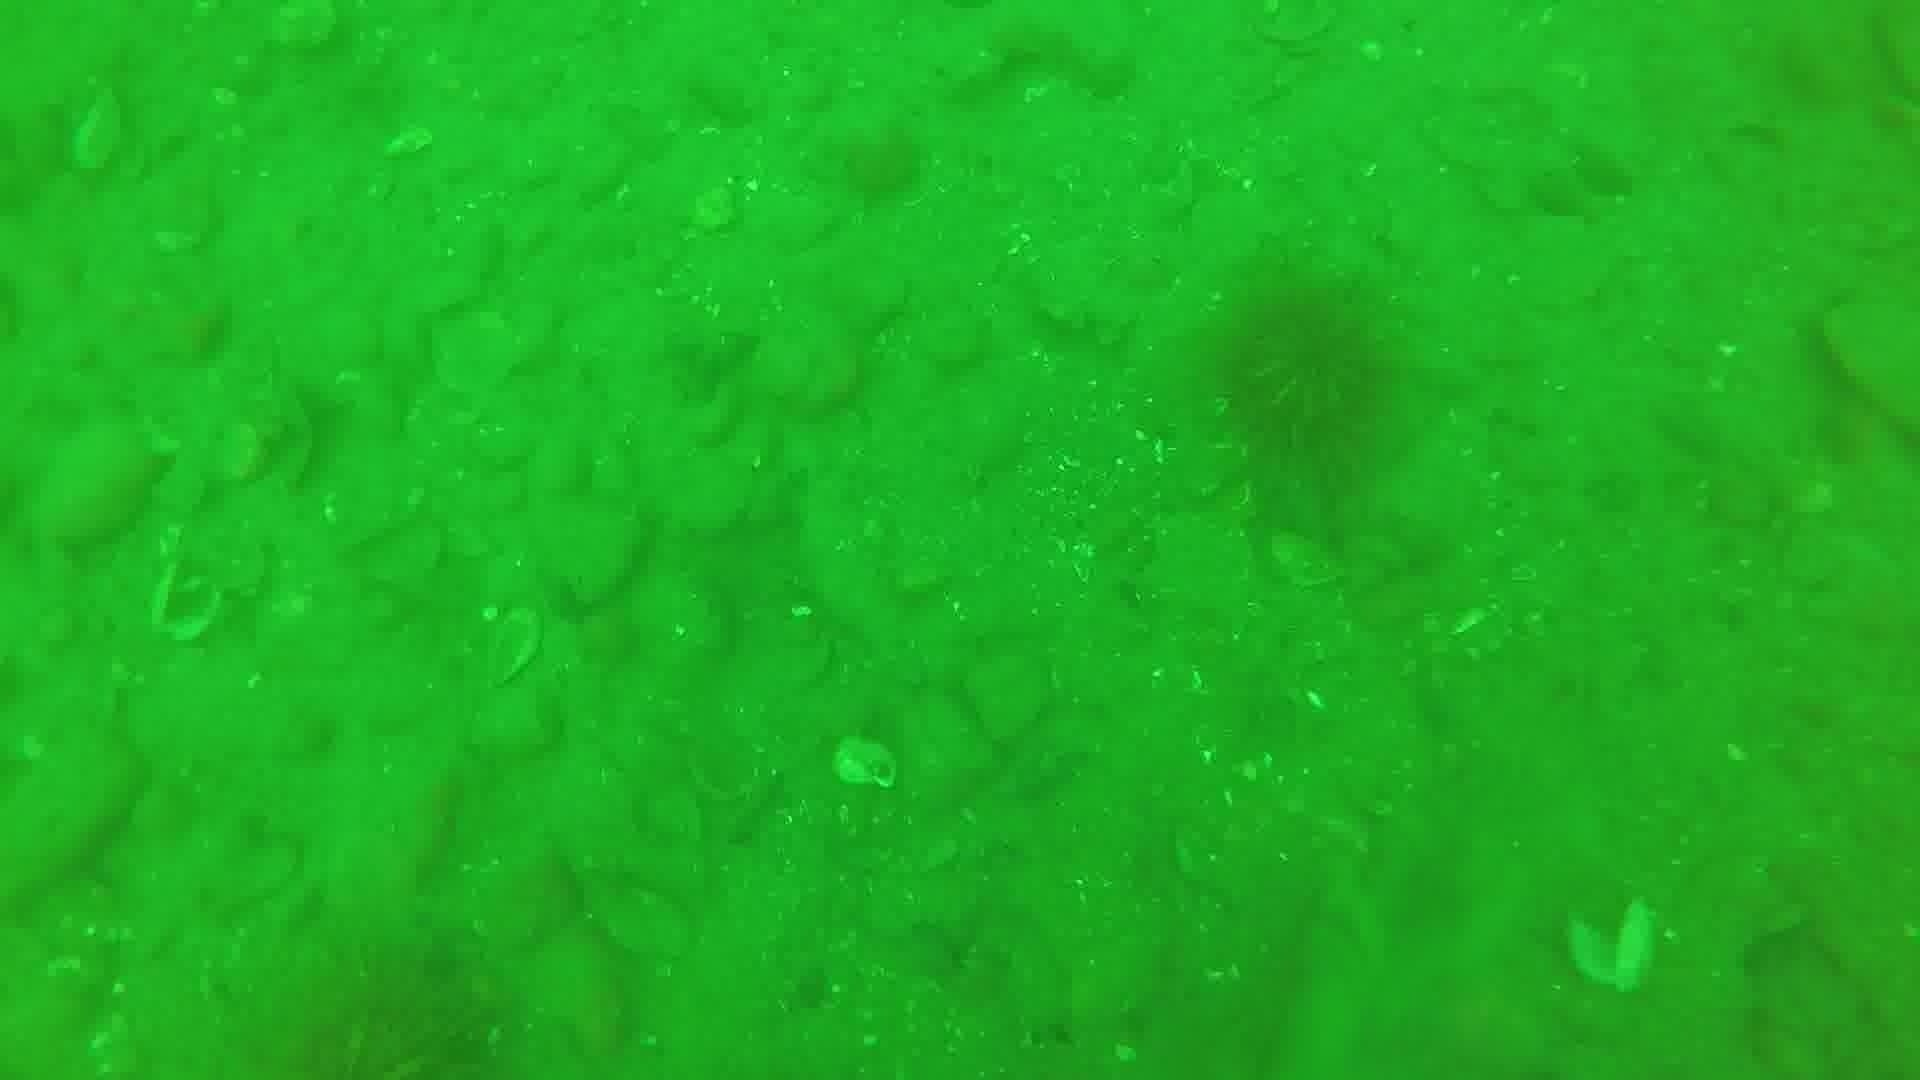echinus: (1207, 272, 1400, 485), (257, 931, 509, 1077)
scallop: (1812, 287, 1919, 442)
